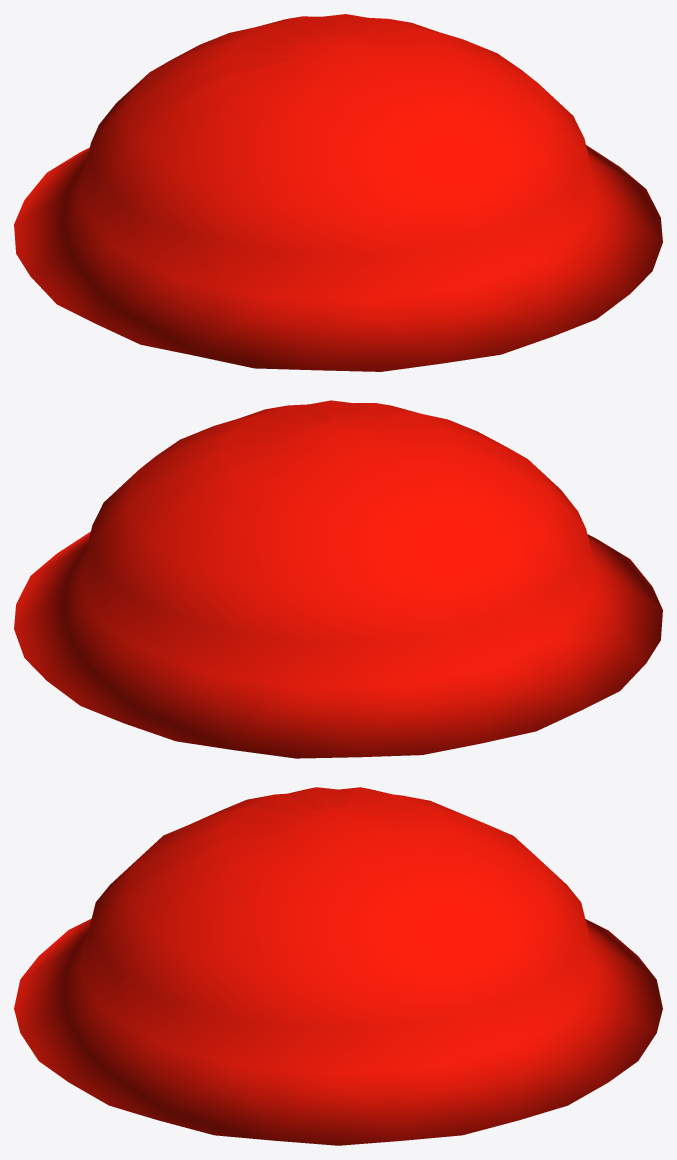
Rendered from indicator_light_bright_red.glb.
3 renders of one model, top to bottom at view 1: azimuth 30°, elevation 25°; view 2: azimuth 150°, elevation 25°; view 3: azimuth 270°, elevation 25°, orthographic.
Parts seen in each view (by area): view 1: Sphere; view 2: Sphere; view 3: Sphere.
Boxes of the visible parts, x1,y1,x2,y2 form: Sphere: (14, 14, 662, 371); Sphere: (14, 400, 662, 758); Sphere: (14, 787, 662, 1145).
Size of the model in its own units: 0.1 by 0.0326 by 0.1.
